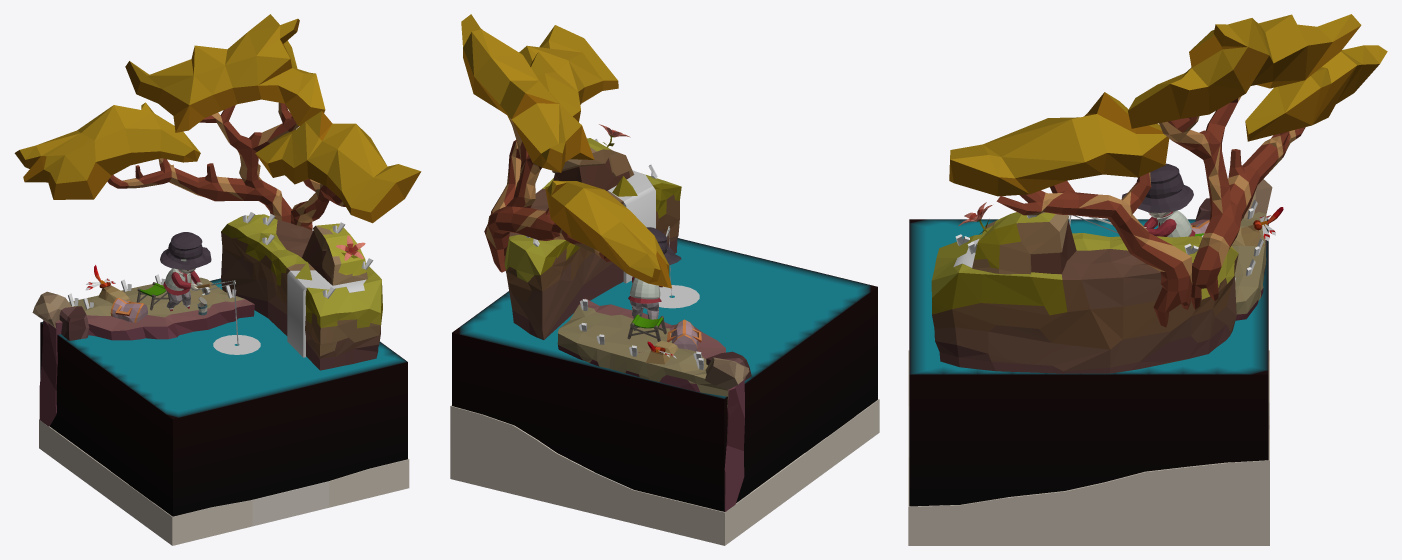
File: 0029_fishing.fbx
3 renders of one model, left to right at view 1: azimuth 30°, elevation 25°; view 2: azimuth 150°, elevation 25°; view 3: azimuth 270°, elevation 25°, orthographic. The views are drawn at different scales.
Parts seen in each view (by area): view 1: [water]rWater, Plate2, Tree02_Leaves02, Sand, Tree02_Leaves01, Tree01_Leaves01, Plate1, Tree02_Body, grass_Rock, waterfall, Fishingman_Hat, Tree01_Body (+4 smaller); view 2: [water]rWater, Sand, Plate2, Plate1, Tree02_Leaves02, Tree02_Leaves01, Tree01_Leaves01, Tree02_Body, grass_Rock, waterfall, Rock06, Tree01_Body (+4 smaller); view 3: [water]rWater, Plate2, Sand, Tree01_Leaves01, Tree02_Leaves02, Tree02_Body, Tree01_Body, Tree02_Leaves01, grass_Rock, Plate1, Fishingman_Hat.
Boxes of the visible parts, box(x1,y1,x2,y2) form: [water]rWater: box(40, 278, 407, 516); Plate2: box(221, 214, 382, 370); Tree02_Leaves02: box(125, 14, 325, 132); Sand: box(39, 419, 409, 545); Tree02_Leaves01: box(14, 102, 200, 199); Tree01_Leaves01: box(255, 111, 421, 223); Plate1: box(39, 277, 254, 426); Tree02_Body: box(107, 102, 299, 223); grass_Rock: box(302, 223, 367, 285); waterfall: box(287, 270, 366, 357); Fishingman_Hat: box(160, 232, 211, 269); Tree01_Body: box(291, 179, 345, 230); [water]rWater: box(452, 238, 877, 511); Sand: box(450, 399, 879, 545); Plate2: box(504, 175, 681, 339); Plate1: box(557, 298, 744, 511); Tree02_Leaves02: box(461, 14, 594, 172); Tree02_Leaves01: box(545, 180, 671, 288); Tree01_Leaves01: box(507, 25, 618, 124); Tree02_Body: box(484, 117, 611, 272); grass_Rock: box(552, 138, 634, 190); waterfall: box(608, 170, 655, 283); Rock06: box(705, 357, 749, 389); Tree01_Body: box(490, 140, 521, 214); [water]rWater: box(909, 219, 1268, 506); Plate2: box(931, 233, 1238, 373); Sand: box(908, 350, 1269, 545); Tree01_Leaves01: box(949, 92, 1169, 196); Tree02_Leaves02: box(1128, 14, 1361, 128); Tree02_Body: box(1159, 96, 1305, 309); Tree01_Body: box(996, 172, 1192, 327); Tree02_Leaves01: box(1245, 45, 1387, 141); grass_Rock: box(972, 212, 1076, 274); Plate1: box(1190, 212, 1266, 320); Fishingman_Hat: box(1122, 163, 1193, 212).
Bounding box in the file's own units: 9.35 × 12.59 × 10.46.
